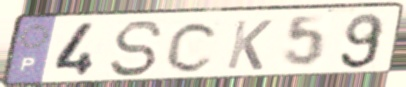4: (52, 20, 102, 81)
5: (283, 13, 329, 72)
9: (337, 11, 387, 72)
C: (163, 19, 223, 74)
K: (223, 18, 275, 72)
S: (107, 18, 166, 79)
